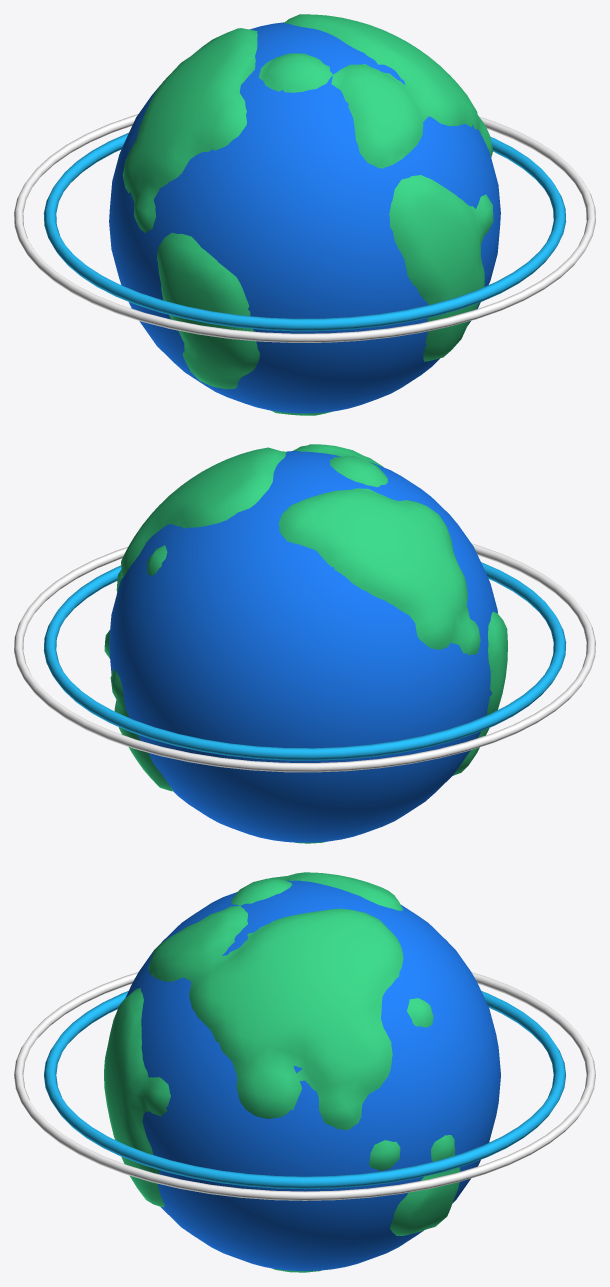
Rendered from newsTitle.glb.
3 views of the same model, one above another, from view 1: azimuth 30°, elevation 25°; view 2: azimuth 150°, elevation 25°; view 3: azimuth 270°, elevation 25° (orthographic).
Visible parts, largest first — view 1: title_sea, title_land, title_ring-inner, title_ring-outer; view 2: title_sea, title_land, title_ring-inner, title_ring-outer; view 3: title_sea, title_land, title_ring-inner, title_ring-outer.
Boxes of the visible parts, bbox=[...] form: title_sea: bbox=[109, 22, 500, 413]; title_land: bbox=[122, 14, 493, 415]; title_ring-inner: bbox=[43, 132, 566, 331]; title_ring-outer: bbox=[14, 114, 595, 342]; title_sea: bbox=[109, 451, 497, 842]; title_land: bbox=[104, 444, 507, 843]; title_ring-inner: bbox=[43, 562, 566, 760]; title_ring-outer: bbox=[14, 543, 595, 772]; title_sea: bbox=[125, 880, 500, 1270]; title_land: bbox=[104, 872, 460, 1272]; title_ring-inner: bbox=[44, 991, 565, 1189]; title_ring-outer: bbox=[14, 972, 595, 1200].
Bounding box in the file's own units: 2.97 × 2.04 × 2.97.
